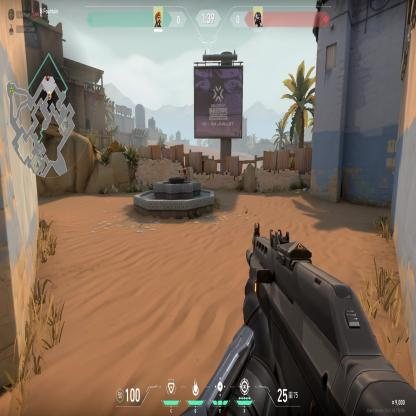enemy: (179, 164, 187, 179)
